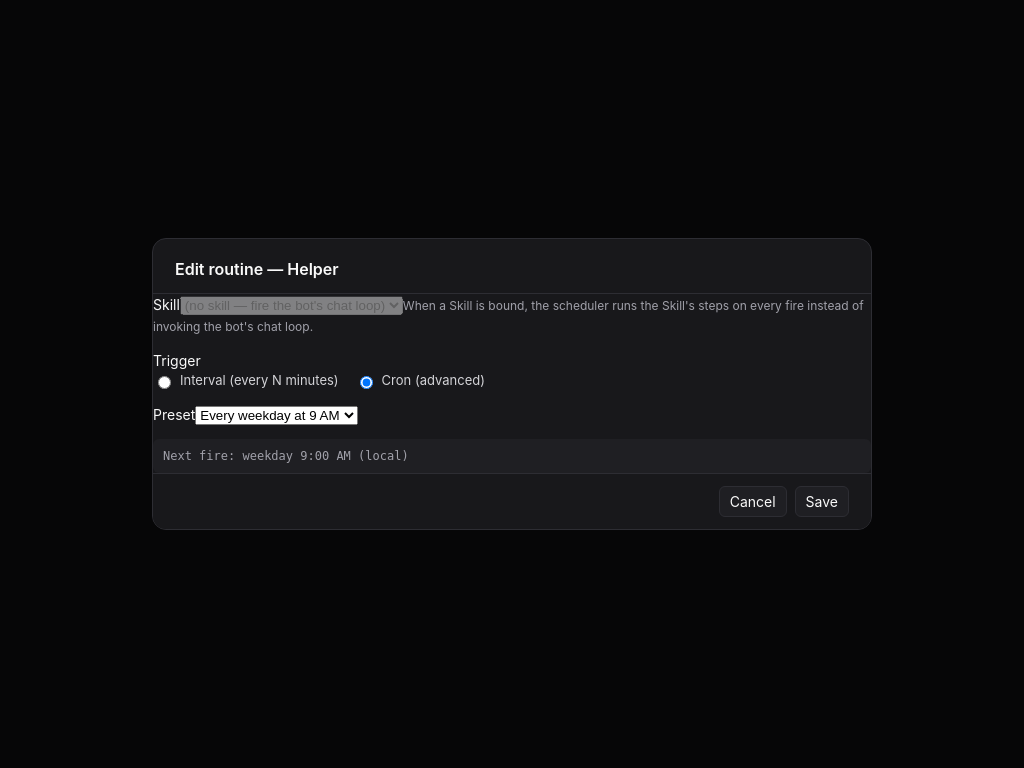
ScheduleEditorDialog › rejects Save when a Skill is selected but the cron is empty
Select "Advanced…" in the dropdown labelled "Preset": [277, 416] box [195, 406, 358, 425]
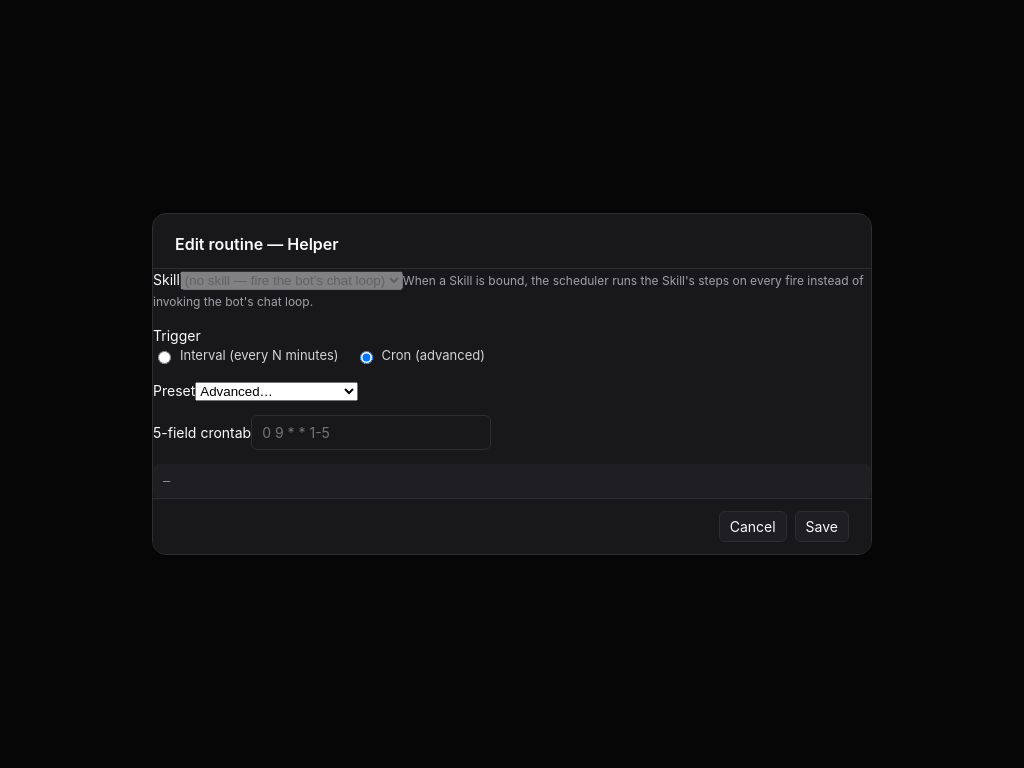
Click the button with test id "schedule-save": [822, 526] box [795, 511, 849, 542]
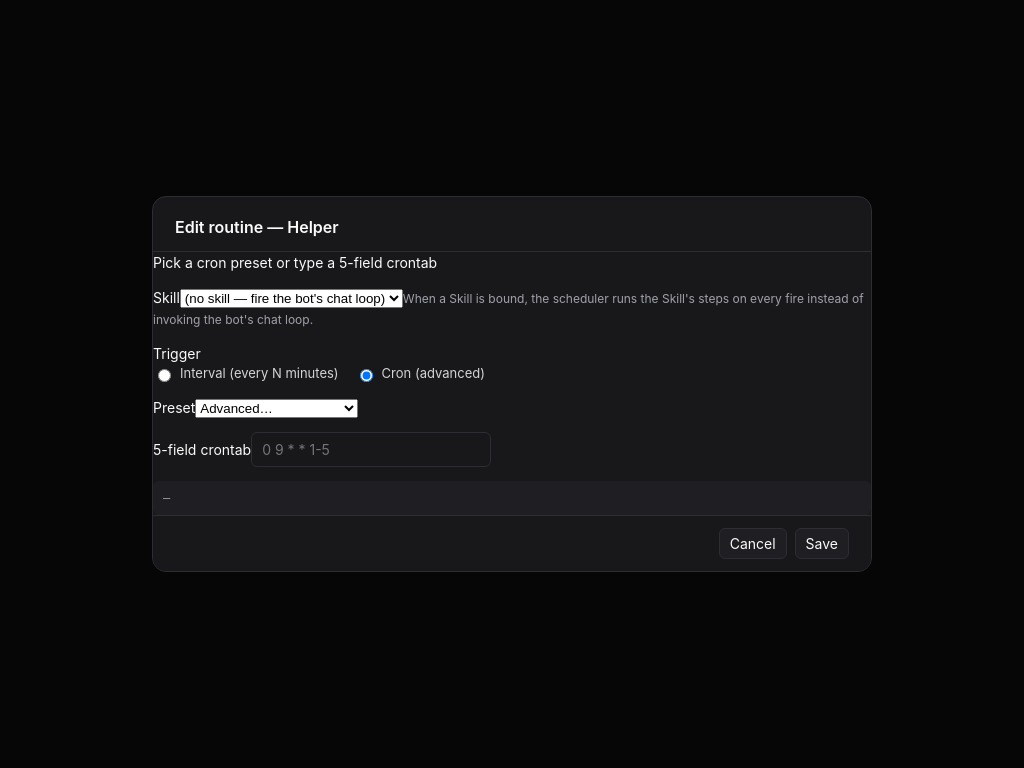
Expected: the text "Pick a cron preset or type a 5-field crontab" is shown, [153, 254, 437, 271]
